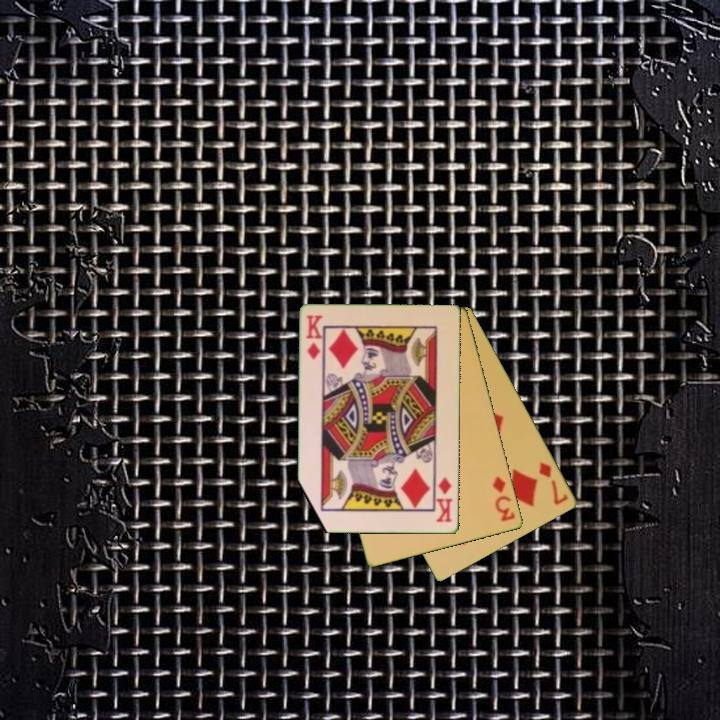3d: (489, 473, 518, 525)
7d: (536, 459, 572, 508)
Kd: (433, 471, 456, 525), (303, 312, 325, 363)
